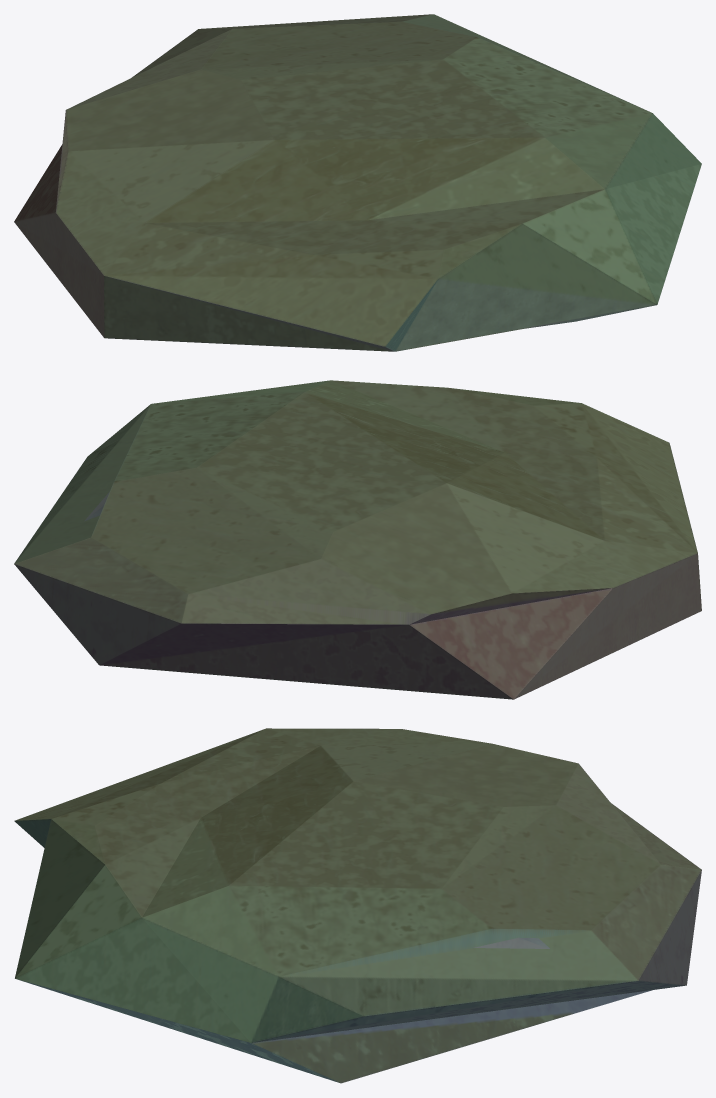
Rendered from rock.glb.
3 views of the same model, one above another, from view 1: azimuth 30°, elevation 25°; view 2: azimuth 150°, elevation 25°; view 3: azimuth 270°, elevation 25° (orthographic). The views are drawn at different scales.
Visible parts, largest first — view 1: Icosphere.001; view 2: Icosphere.001; view 3: Icosphere.001.
Part boxes in pixels (bbox=[...]): Icosphere.001: bbox=[14, 14, 701, 351]; Icosphere.001: bbox=[14, 380, 701, 699]; Icosphere.001: bbox=[14, 728, 701, 1083].
Size of the model in its own units: 7.93 by 1.47 by 7.89.
1 material, 1 textured.
